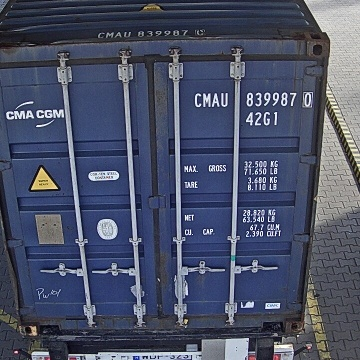serial_id: (195, 92, 312, 106)
